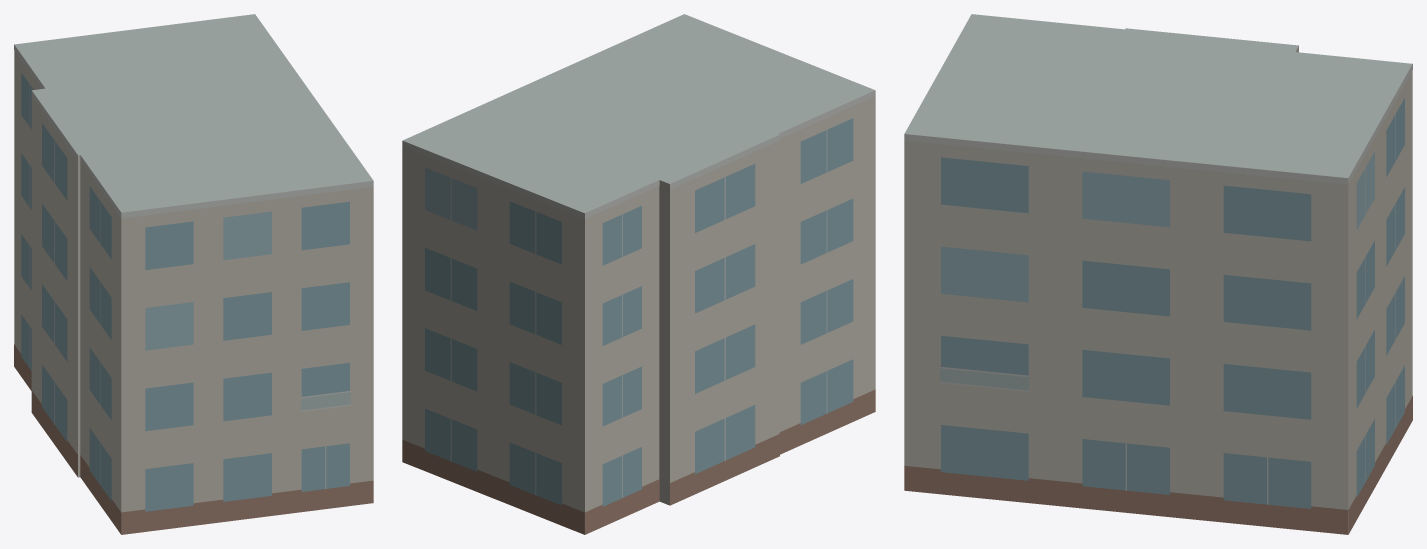
The model's file is survey-upis-32820857.glb.
3 renders of one model, left to right at view 1: azimuth 30°, elevation 25°; view 2: azimuth 150°, elevation 25°; view 3: azimuth 270°, elevation 25°, orthographic. The views are drawn at different scales.
Parts seen in each view (by area): view 1: survey-upis-32820857.tmp; view 2: survey-upis-32820857.tmp; view 3: survey-upis-32820857.tmp.
Boxes of the visible parts, x1,y1,x2,y2 form: survey-upis-32820857.tmp: (14,14,373,534); survey-upis-32820857.tmp: (402,14,875,534); survey-upis-32820857.tmp: (904,14,1412,534).
Size of the model in its own units: 13.24 by 13.4 by 17.32.
